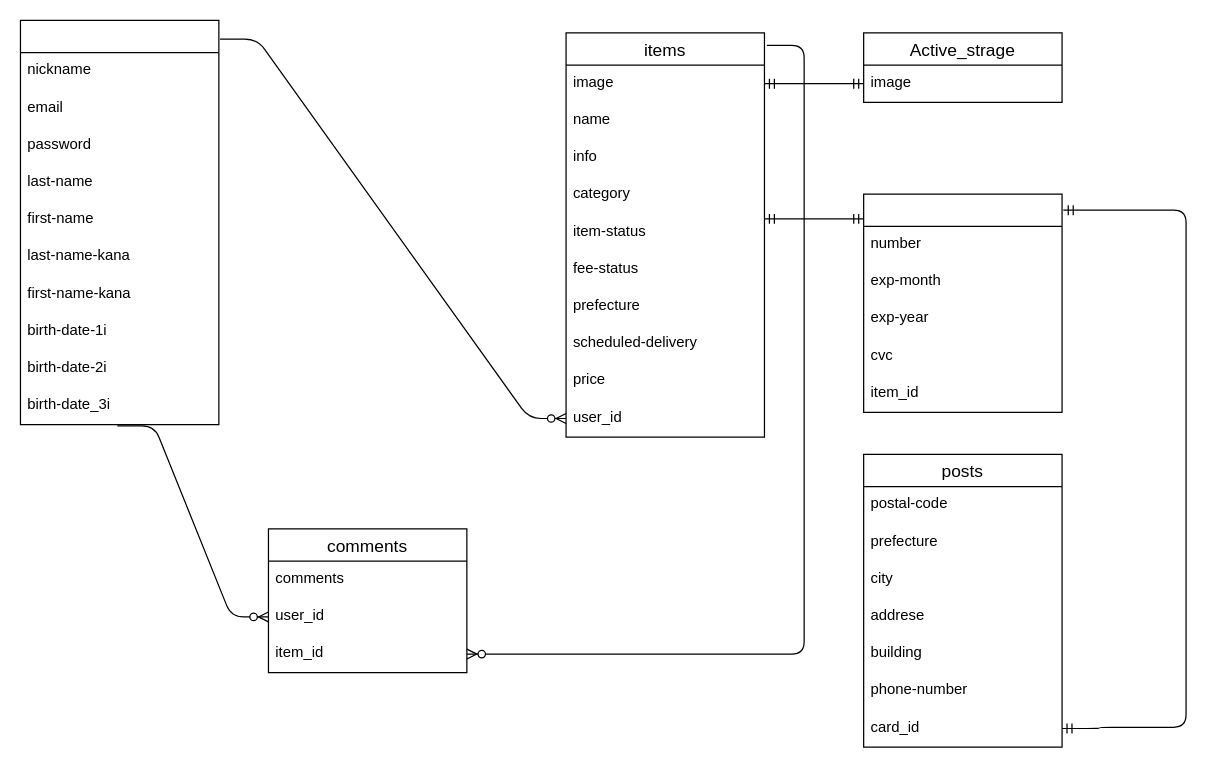
Image size: 1207x768. Some labels were removed from this diagram. Each missing label, with the box of its shape:
cards: (862, 193, 1062, 412)
users: (19, 19, 219, 425)
